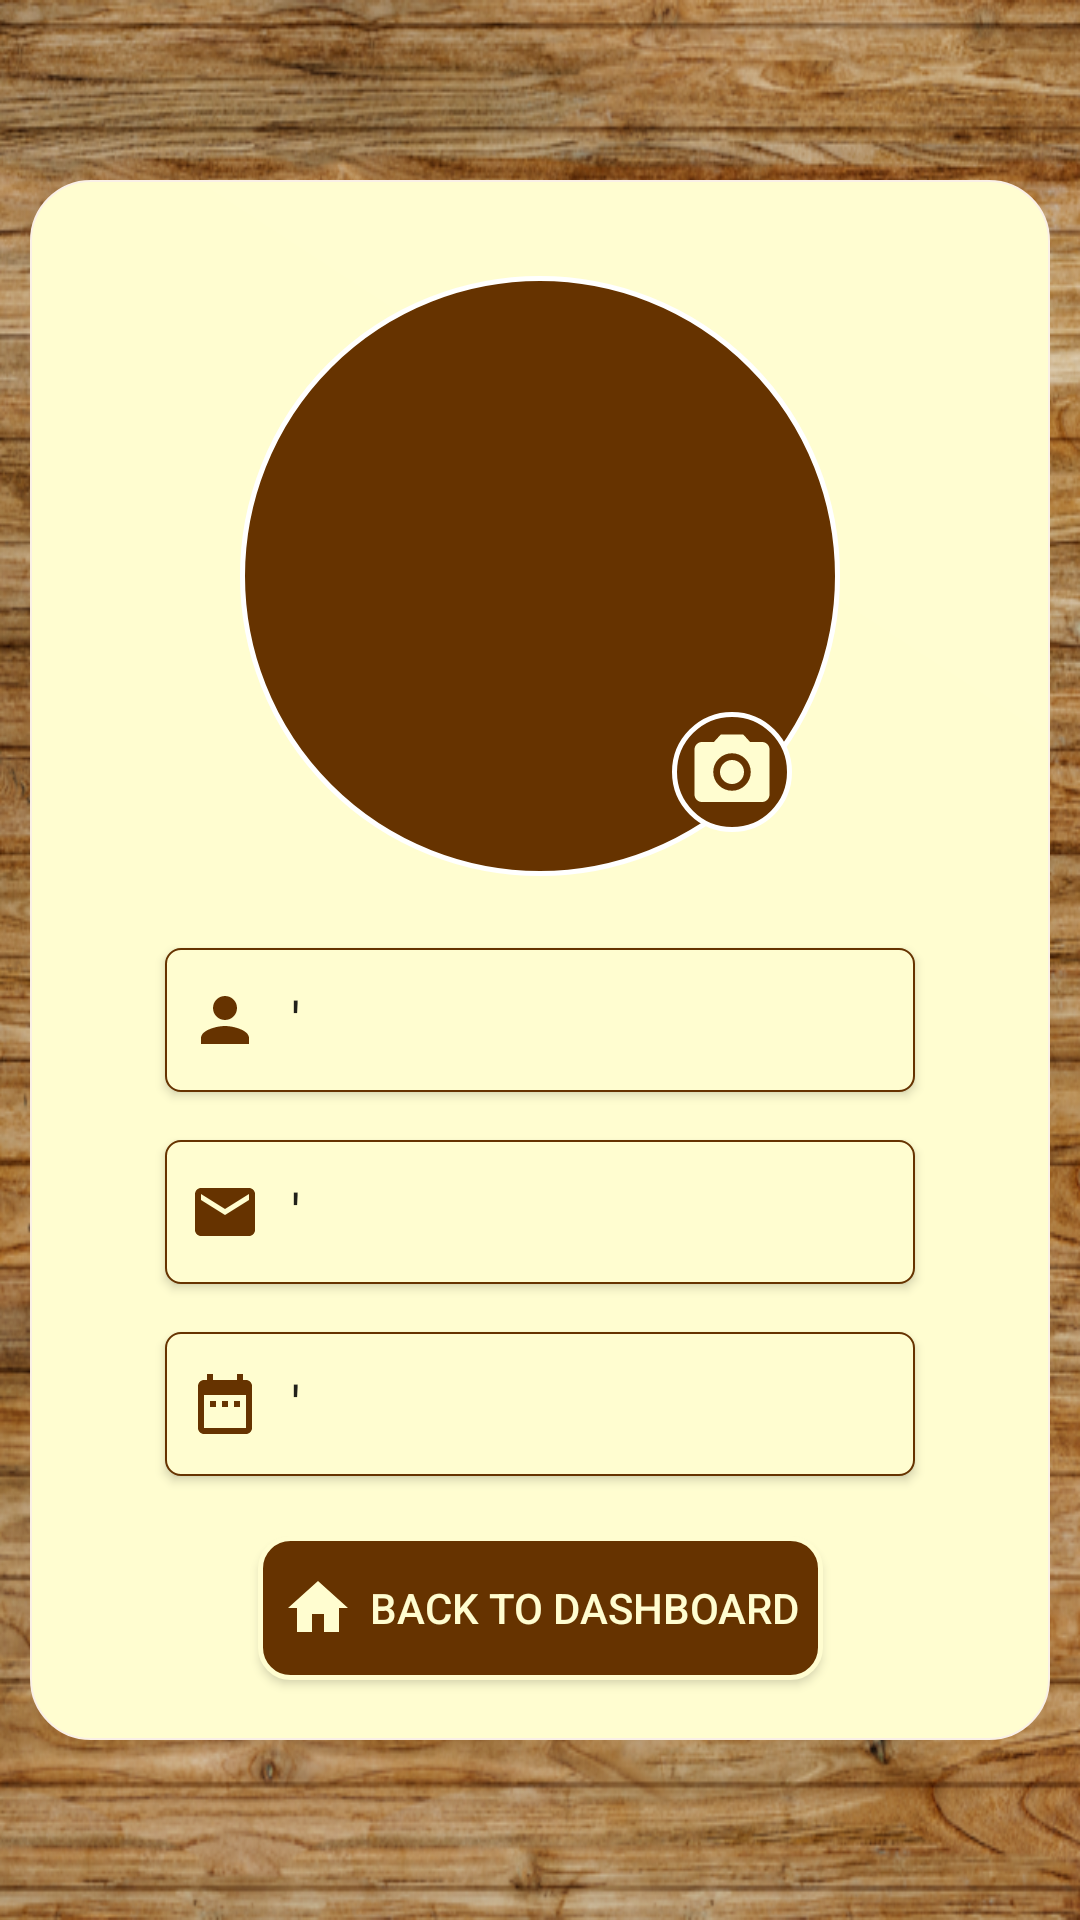

Locate icon controls on the screen. Image size 1080px×1920px, boxes as [x1=x1, y1=y1, x2=x2, y2=y2].
photo camera: [x1=694, y1=734, x2=770, y2=802]
